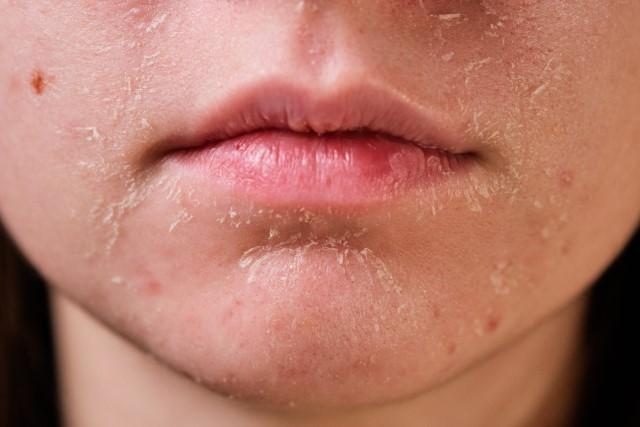Dry-Skin: (123, 222, 420, 378), (63, 2, 177, 211), (406, 0, 520, 149)
